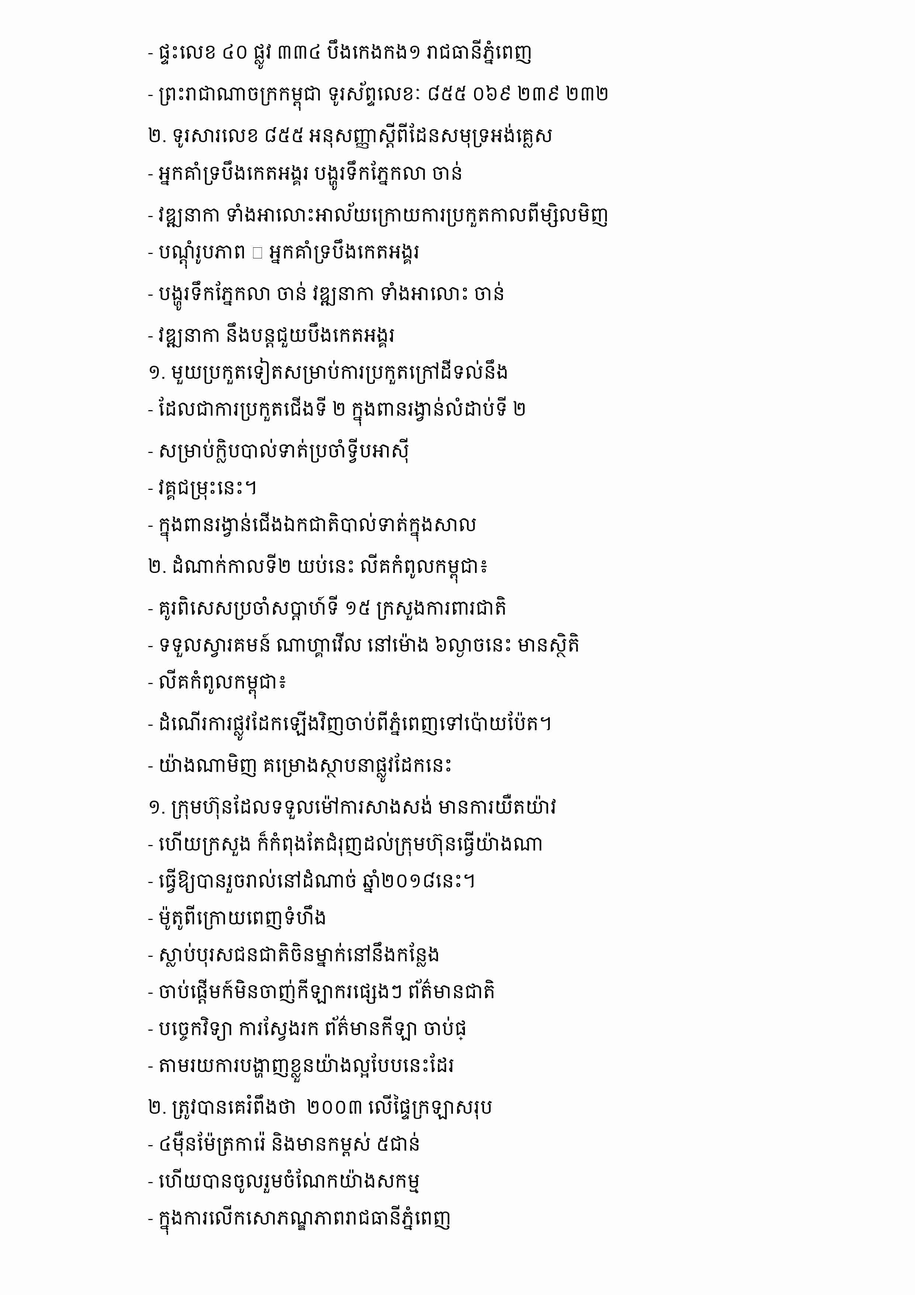text: (148, 81, 614, 111), (148, 711, 557, 741), (148, 39, 538, 69), (148, 202, 614, 227), (148, 396, 532, 426), (148, 632, 585, 657), (148, 281, 510, 311), (148, 794, 562, 820), (148, 553, 494, 584), (148, 123, 558, 149), (148, 357, 514, 385), (148, 512, 482, 542), (148, 831, 548, 856), (148, 160, 468, 190), (148, 595, 512, 621), (148, 1053, 459, 1083), (148, 753, 457, 783), (148, 1205, 456, 1235), (148, 978, 501, 1004), (148, 1094, 498, 1120), (148, 1015, 472, 1041), (148, 239, 425, 269), (148, 868, 480, 893), (148, 942, 445, 967), (148, 1131, 426, 1157), (148, 1168, 425, 1193), (148, 438, 414, 463), (148, 322, 400, 348), (148, 905, 332, 930), (148, 669, 292, 699), (148, 480, 262, 500)
